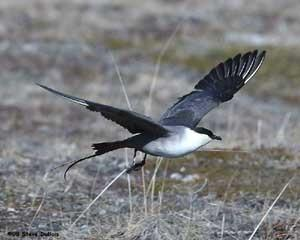bird: (33, 48, 268, 177)
